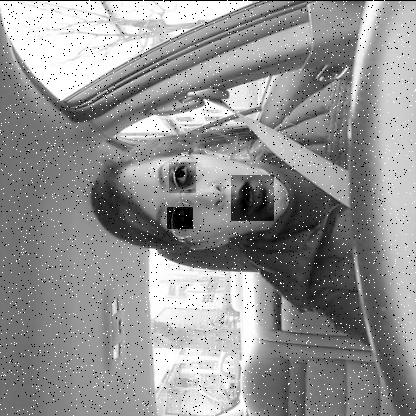seatbelt: (68, 112, 349, 258)
